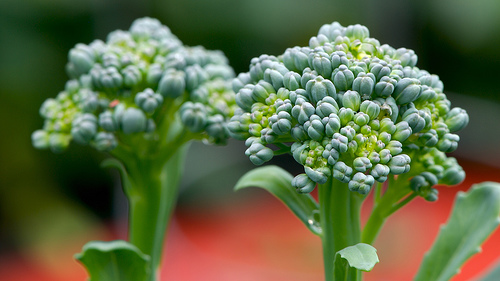broccoli: (229, 21, 469, 280), (33, 14, 241, 280)
